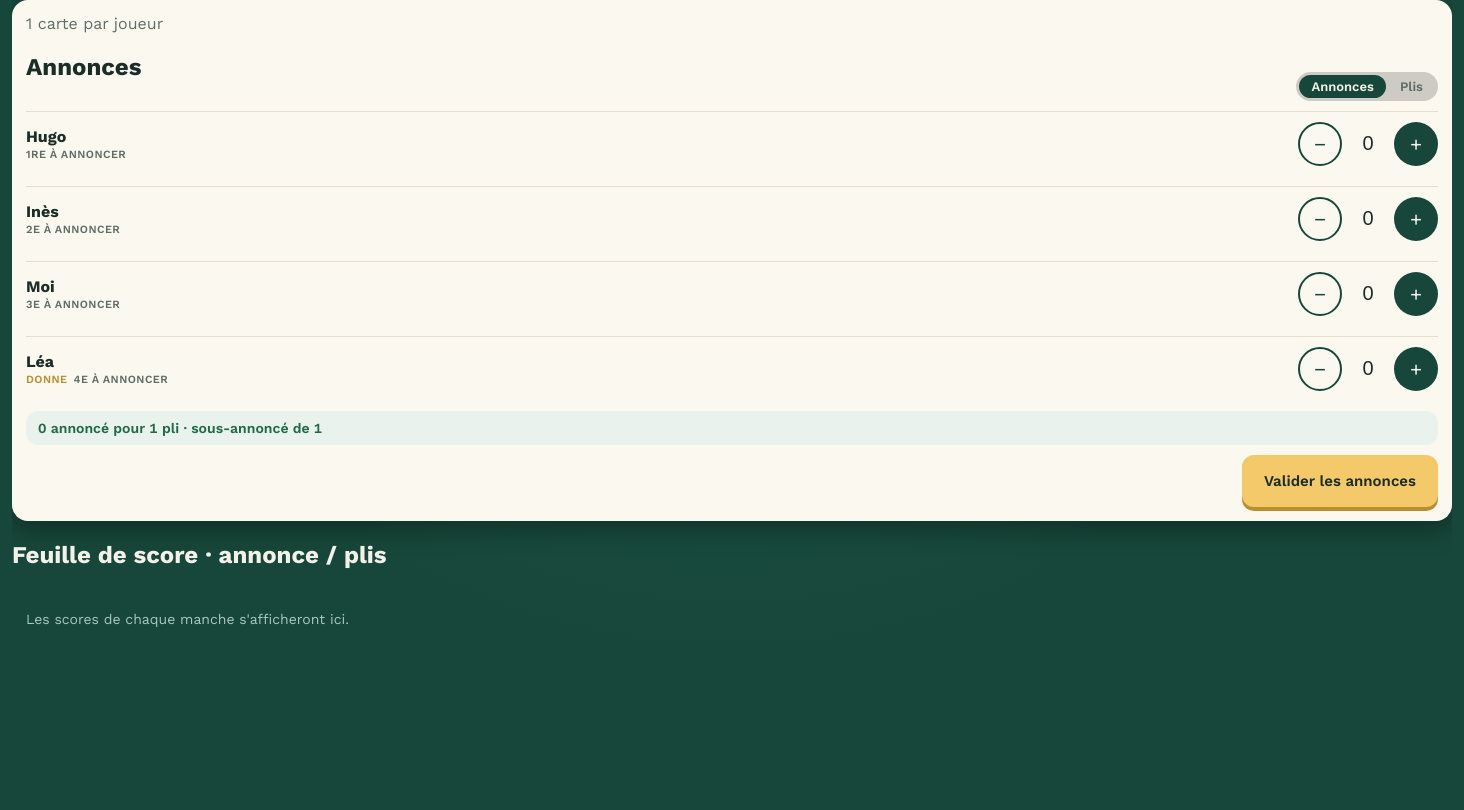
FeuilleWizard › annule la dernière manche et revient à la phase des plis
Step 1. Click the button "Valider les annonces" → (1340, 481), box [1242,455,1438,507]
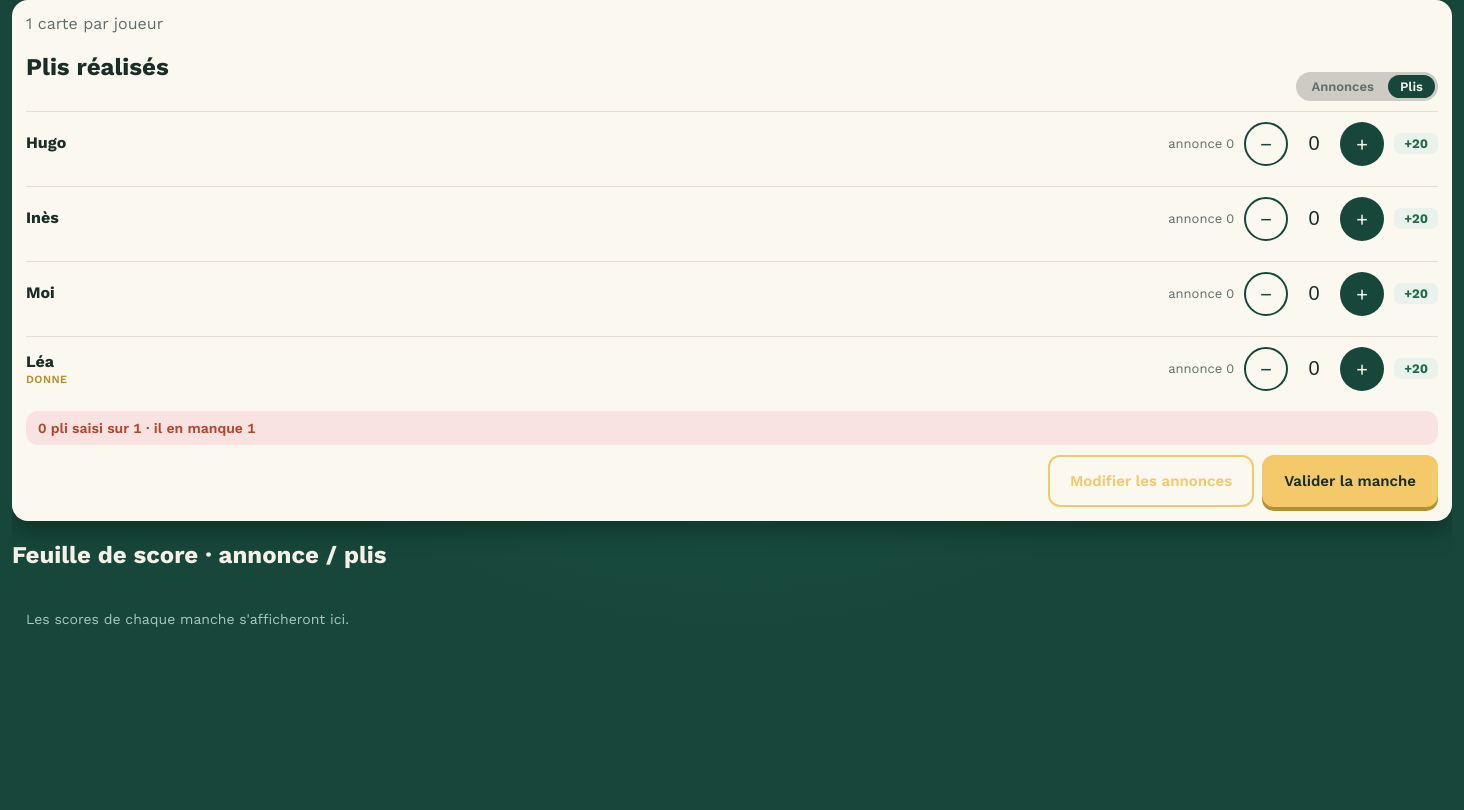
Step 2. Click the button named "Plus" → (1362, 144), box [1340,122,1384,166]
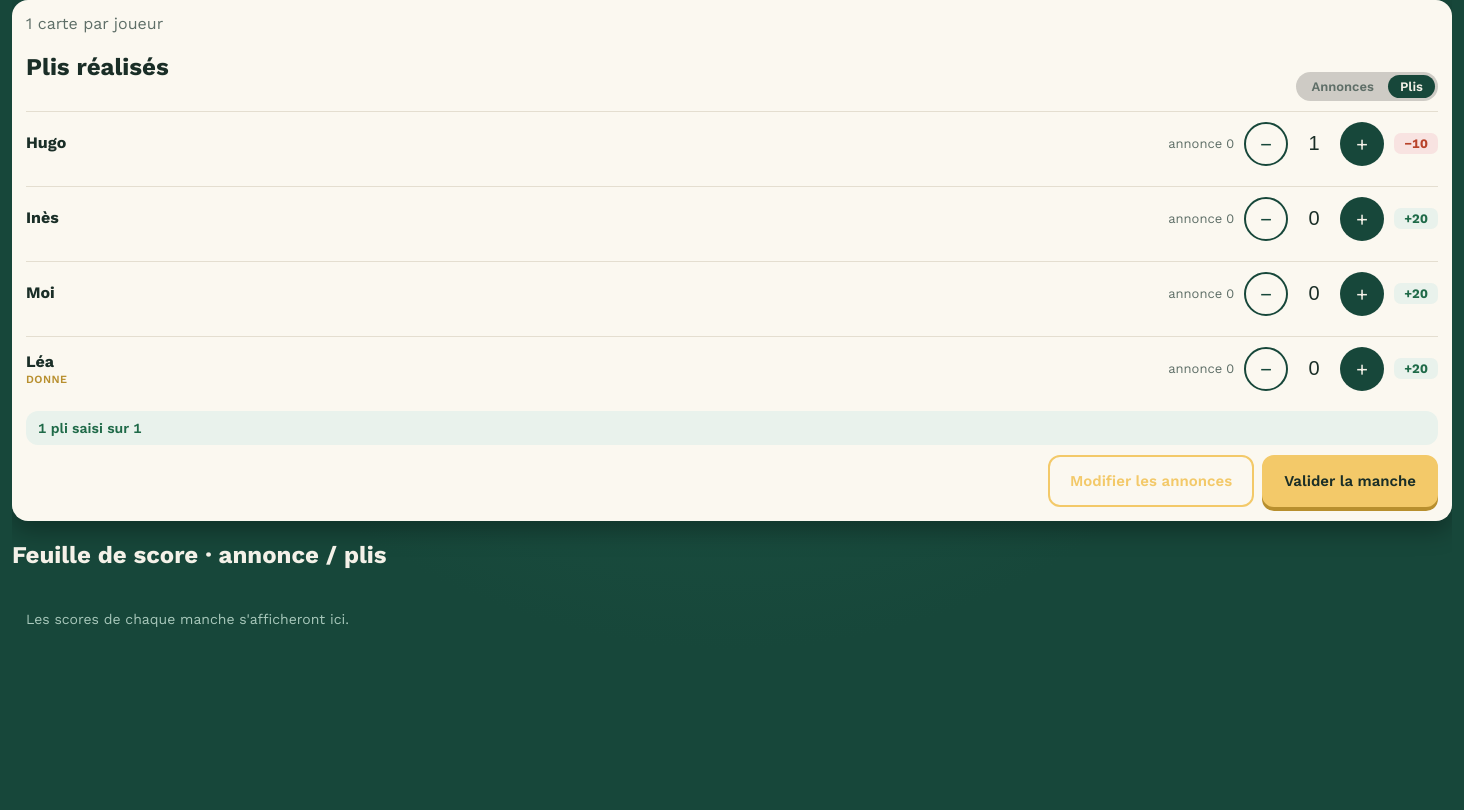
Step 3. Click the button "Valider la manche" → (1350, 481), box [1262,455,1438,507]
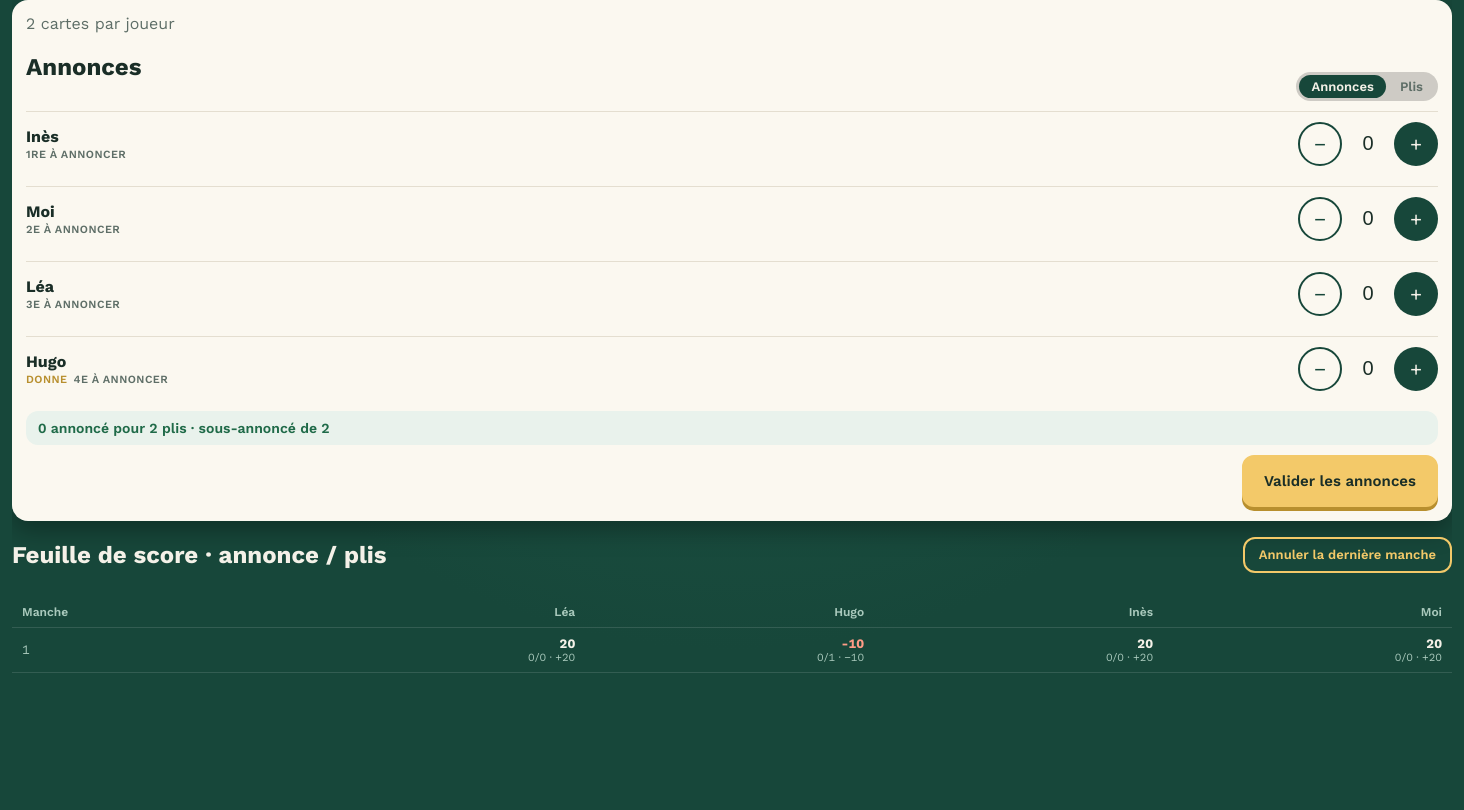
Expected: the button "Annuler la dernière manche" is shown
Step 4. Click the button "Annuler la dernière manche" → (1347, 555), box [1243,537,1452,573]
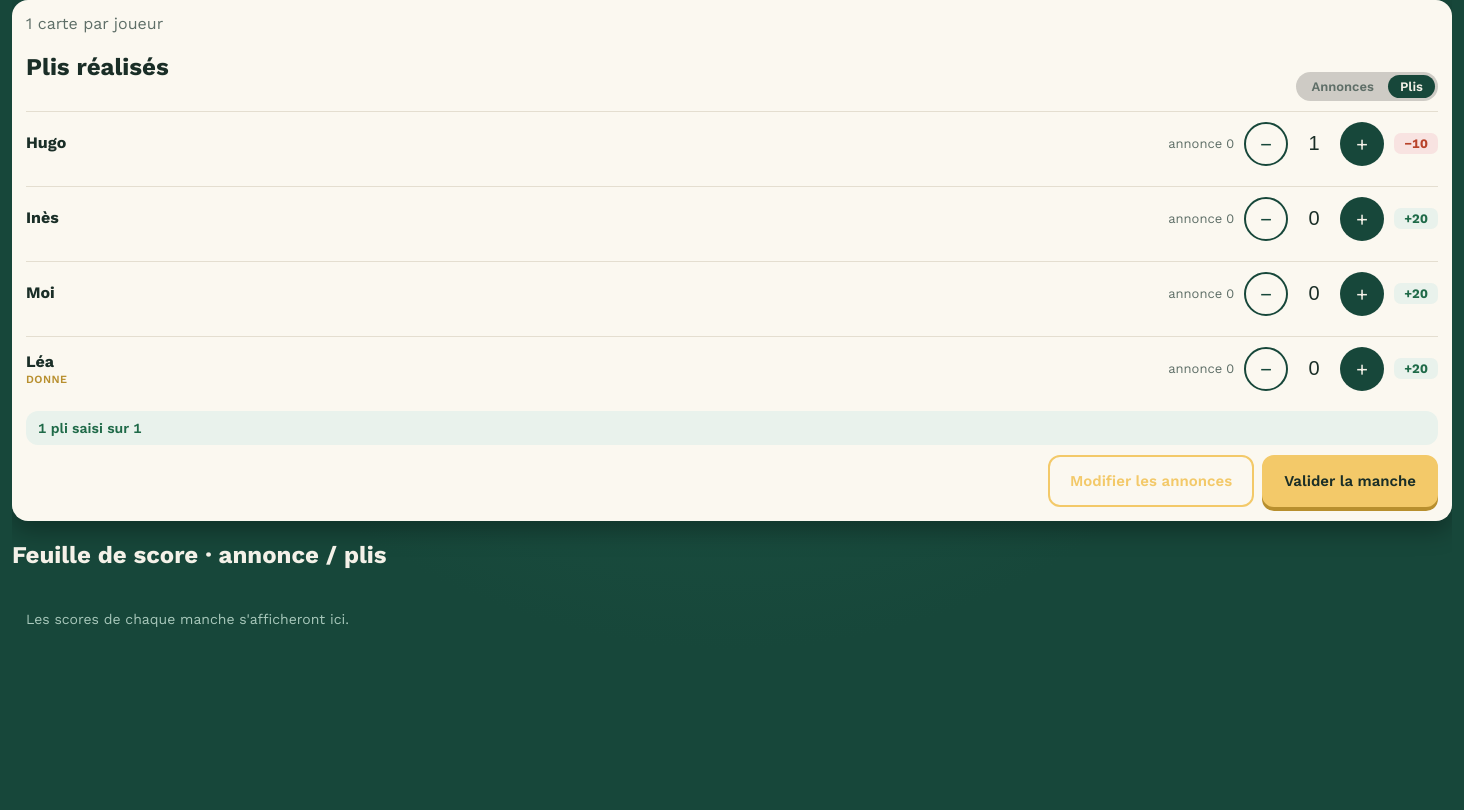
Expected: the heading "Plis réalisés" is shown, [26,53,169,81]
Expected: no rows are shown
